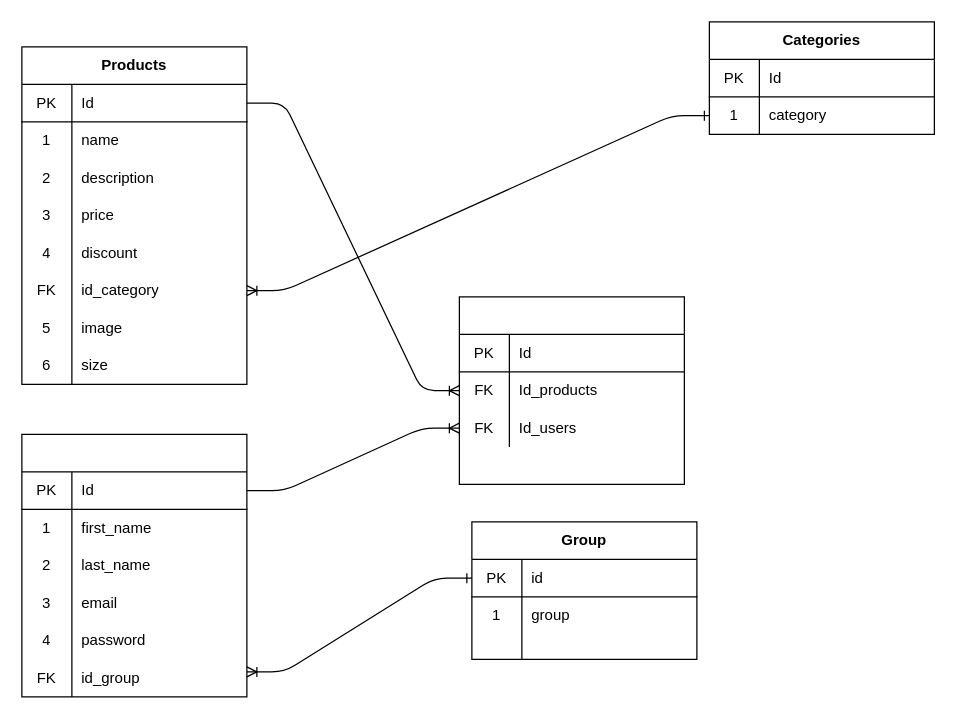
Image size: 956x719. Some labels were removed from this diagram. The box of each missing label's shape, as (x1, y1, x2, y2) in pixels:
User_products: (458, 296, 684, 484)
Users: (21, 433, 247, 697)
